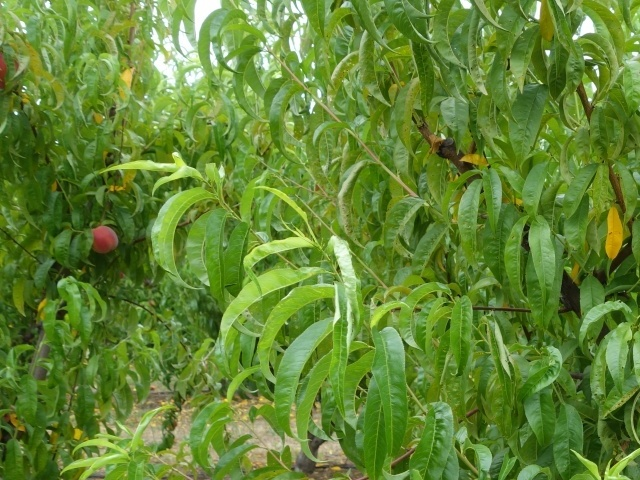peach: (88, 222, 121, 258)
